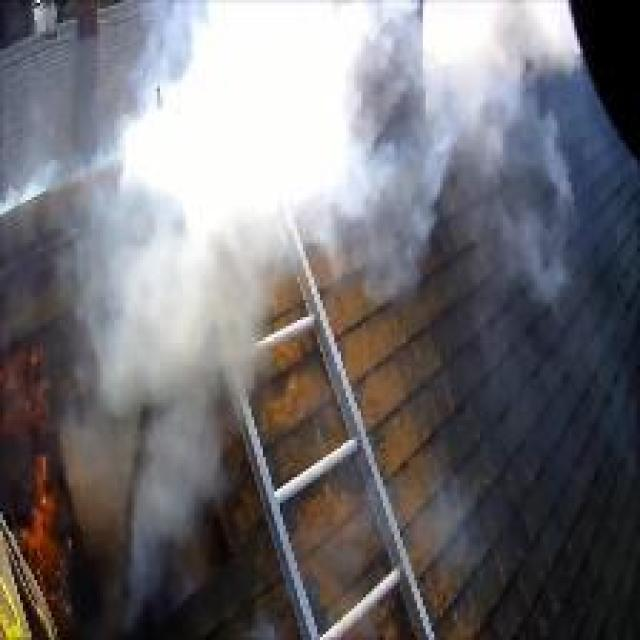other: (14, 459, 77, 567)
smoke: (78, 238, 248, 402), (408, 4, 555, 146)
